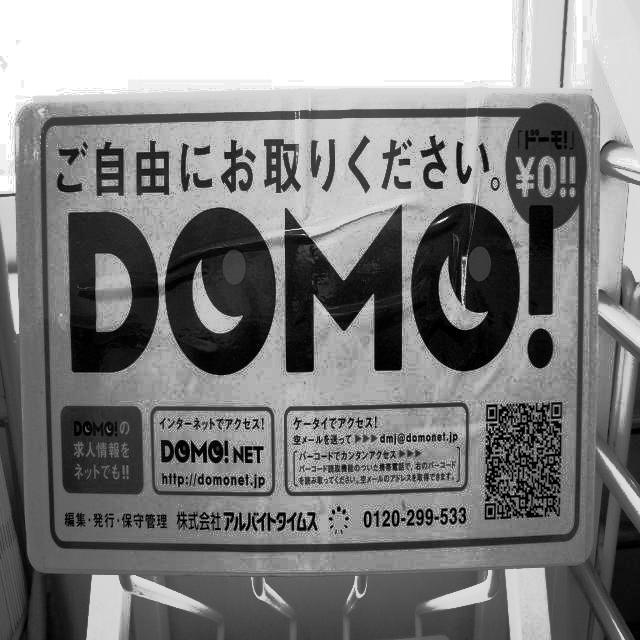qr_code: (485, 402, 562, 519)
